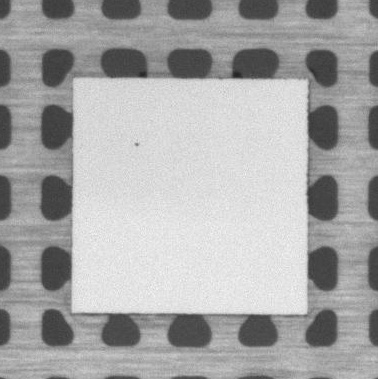DIE_INK: (132, 139, 141, 149)
